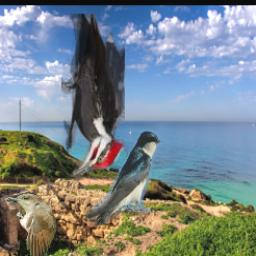Cuckoo: (6, 193, 56, 256)
Swallow: (86, 131, 162, 227)
Woodpecker: (62, 15, 126, 178)
